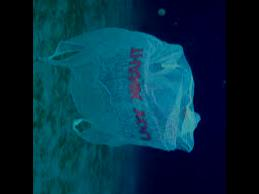Plastic: (33, 27, 202, 153)
